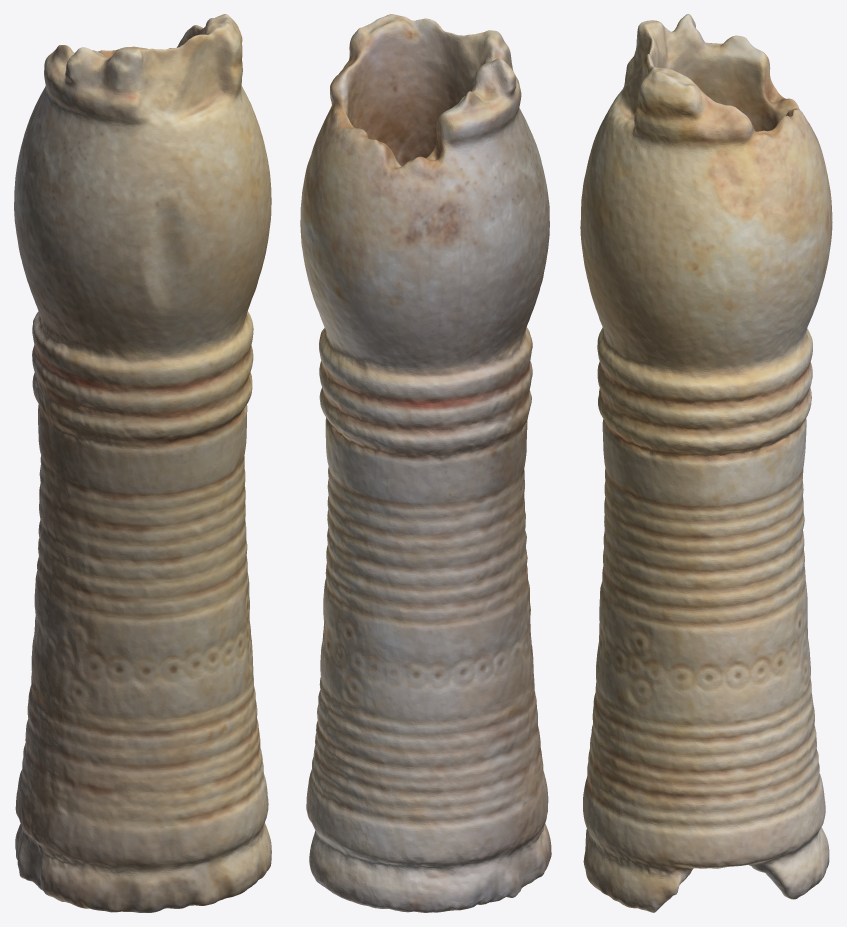
The picture shows the model from 3 angles, left to right: view 1: azimuth 30°, elevation 25°; view 2: azimuth 150°, elevation 25°; view 3: azimuth 270°, elevation 25°; orthographic projection. The views are drawn at different scales.
Visible parts, largest first — view 1: Object_2; view 2: Object_2; view 3: Object_2.
Part boxes in pixels (<box>): Object_2: <box>14,14,271,912</box>; Object_2: <box>300,14,551,912</box>; Object_2: <box>580,14,832,912</box>.
Size of the model in its own units: 0.9184 by 3.33 by 0.9187.
Materials: 1 (1 with a texture image).
